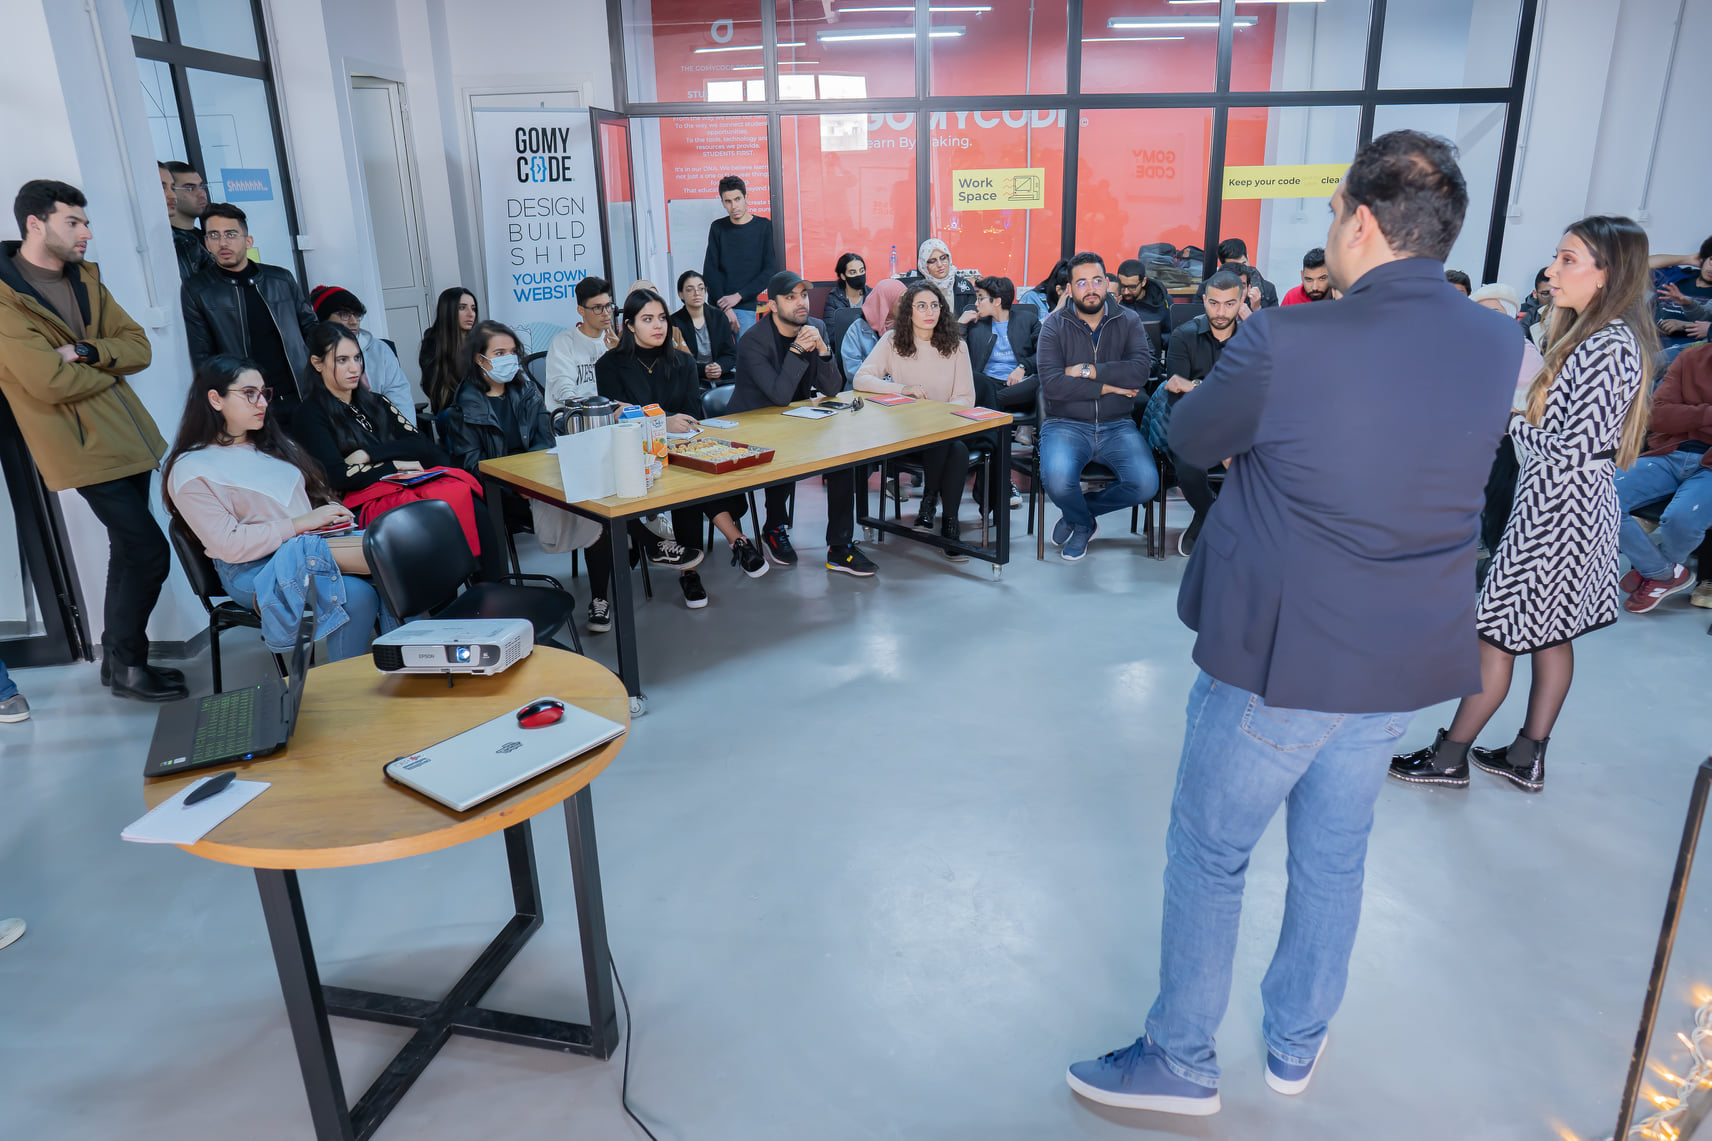without_mask: (1544, 242, 1594, 304), (47, 211, 96, 272), (230, 378, 279, 433), (639, 310, 676, 348), (330, 348, 364, 387), (205, 227, 241, 264), (1204, 294, 1242, 328), (779, 289, 815, 322), (1074, 277, 1109, 309), (916, 300, 944, 333)
